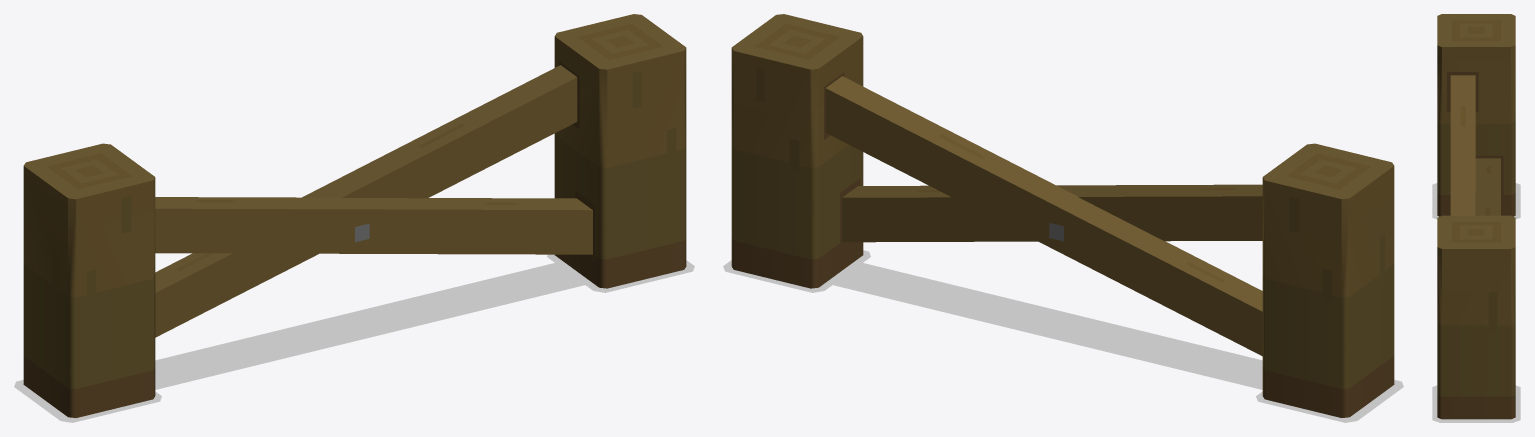
File: MG_fence_wood_rect_small.fbx
3 views of the same model, side by side, from view 1: azimuth 30°, elevation 25°; view 2: azimuth 150°, elevation 25°; view 3: azimuth 270°, elevation 25° (orthographic). The views are drawn at different scales.
Parts seen in each view (by area): view 1: model, ground; view 2: model, ground; view 3: model, ground.
Part boxes in pixels (<box>): model: <box>23,14,686,417</box>; ground: <box>14,254,694,422</box>; model: <box>731,14,1394,417</box>; ground: <box>723,250,1403,422</box>; model: <box>1437,14,1515,419</box>; ground: <box>1432,183,1520,422</box>.
Bounding box in the file's own units: 9.29 × 3.08 × 1.43.
